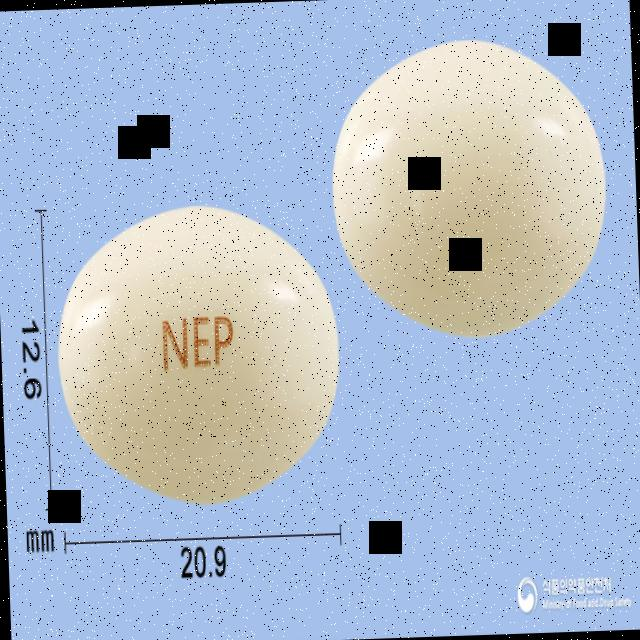Nepoxin Vaginal Soft Cap: (52, 196, 346, 508)
